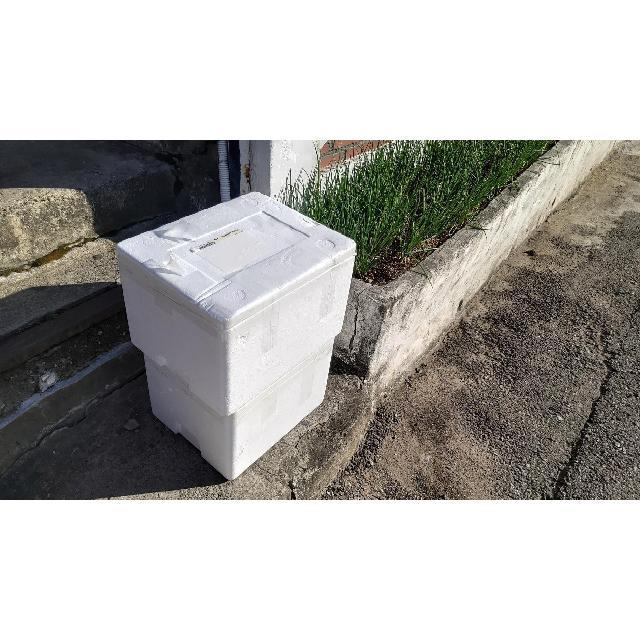Recipiente plastico: (118, 192, 355, 479)
